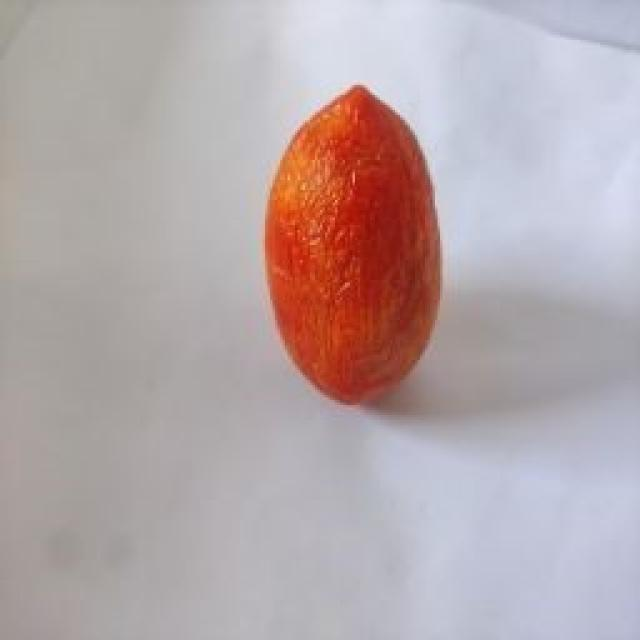overripe: (263, 84, 448, 409)
